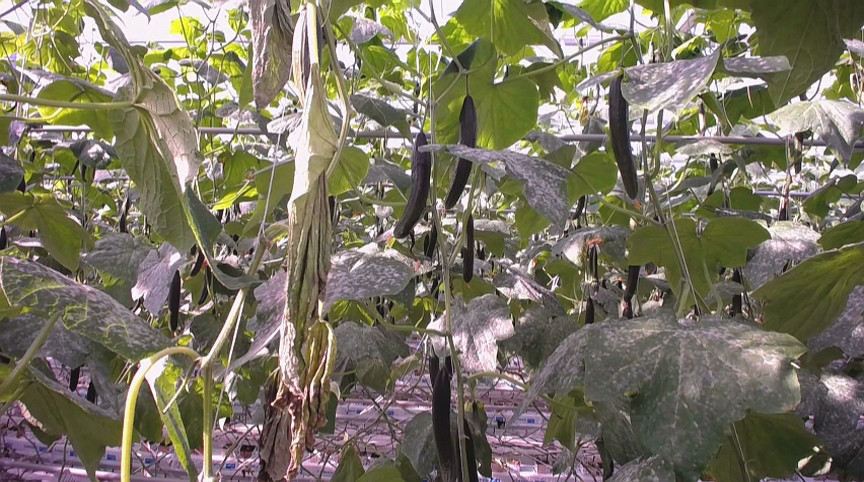cucumber: (609, 73, 638, 200), (394, 133, 429, 238), (445, 97, 477, 209), (432, 369, 461, 482), (462, 213, 475, 281), (167, 271, 180, 333)
